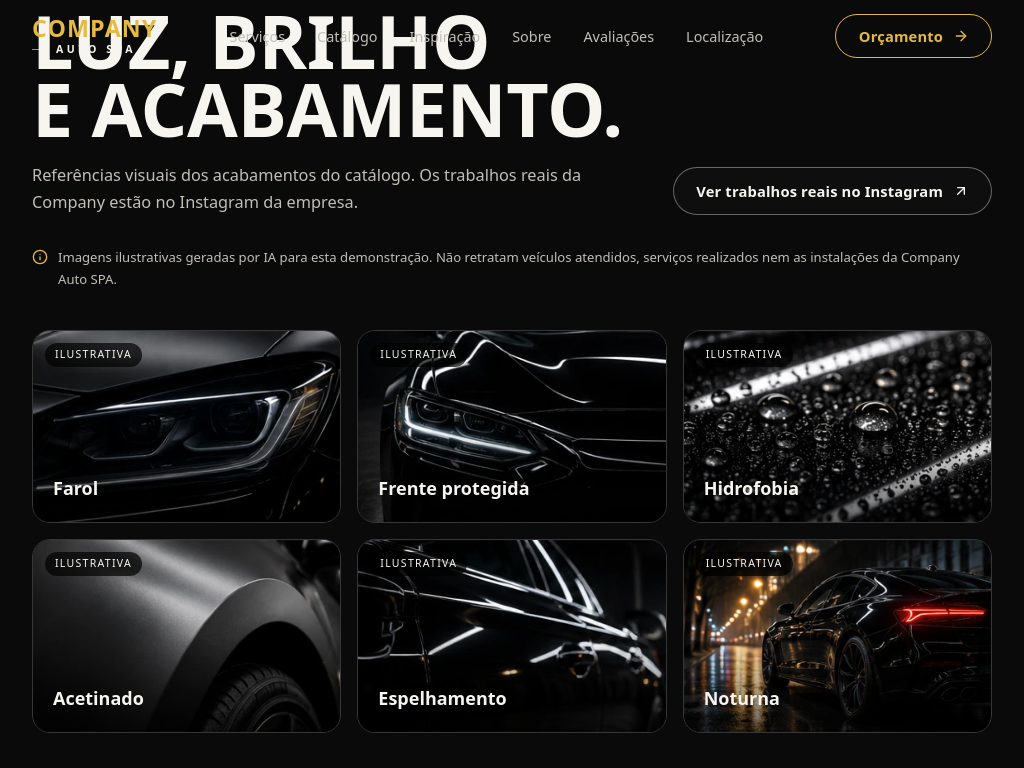
Test: App › galeria "Inspiração" abre a imagem ampliada e navega
(page scrolled)
Click the button with aria-label "Ampliar: Farol": (187, 427) [32, 330, 341, 523]
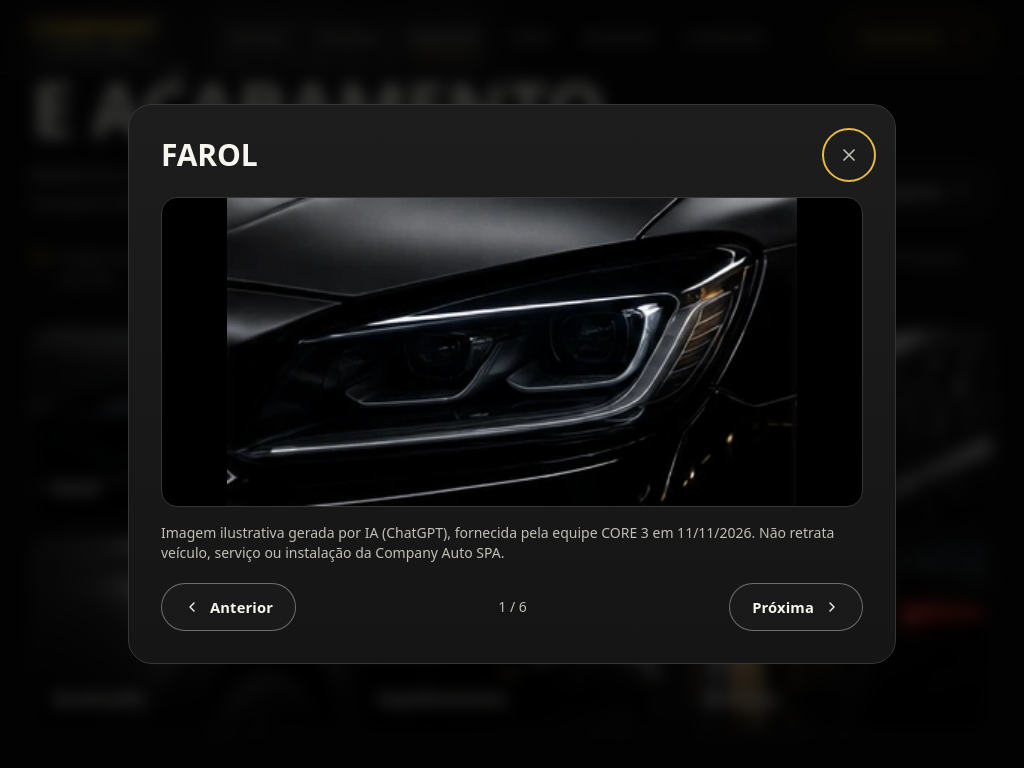
Click the button with aria-label "Próxima imagem": (796, 607) [729, 583, 863, 631]
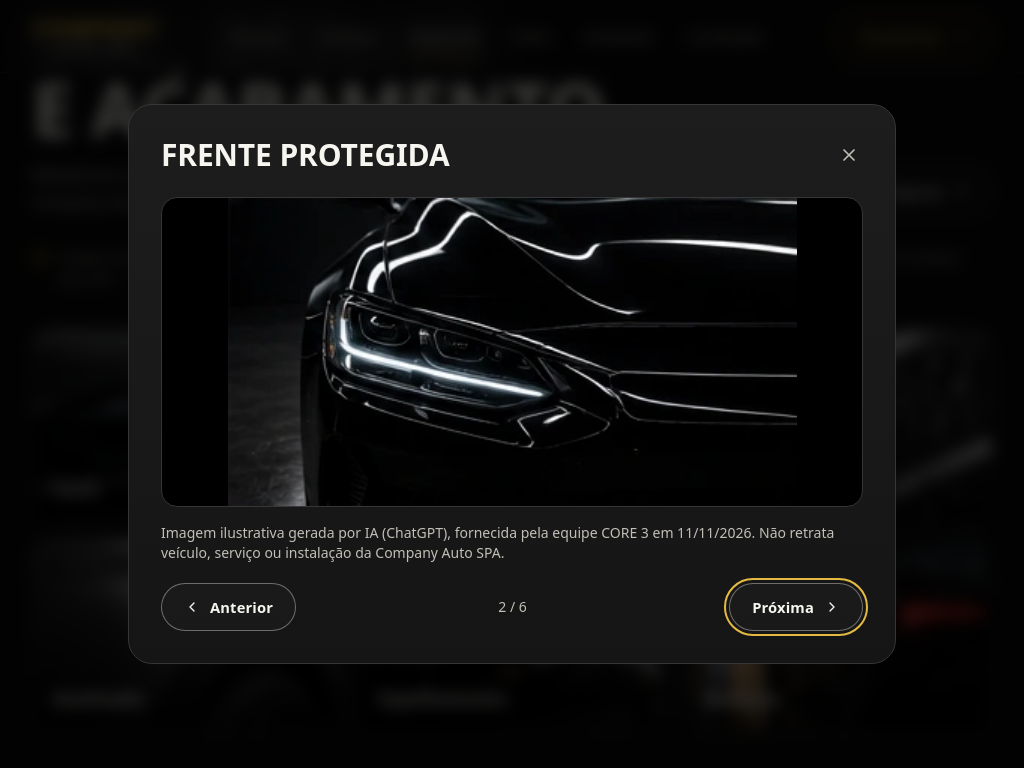
Now the dialog "Frente protegida" is shown, box [128, 104, 896, 664]
